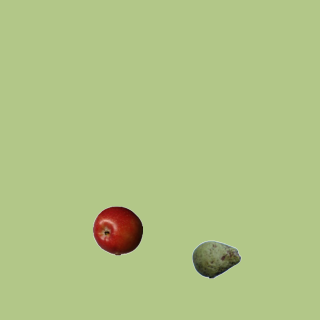Apple Braeburn: (92, 205, 142, 255)
Pear Stone: (191, 234, 241, 284)
